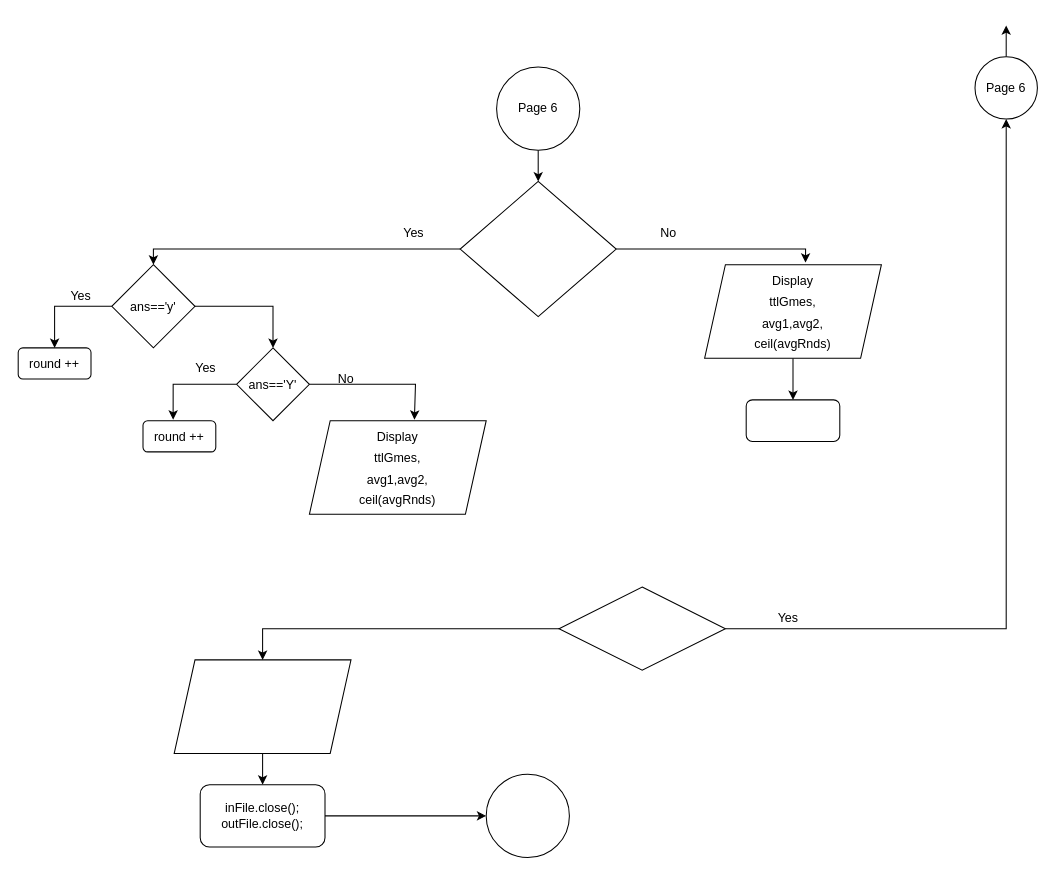
The diagram is 1056 pixels wide and 876 high, and some of its shapes have lost their labels. The shapes that lost their labels are listed below. From the top down, each one's box as (x1, y1, x2, y2) in pixels, then its label:
(459, 180, 616, 317): if ttlGmes<maxGmes
(745, 399, 840, 441): ans='n'
(558, 586, 725, 670): while ans=='y' || ans=='Y'
(173, 659, 351, 753): write to outFile ttlGmes, avg1,avg2, ceil(avgRnds)
(485, 773, 569, 857): return 0
